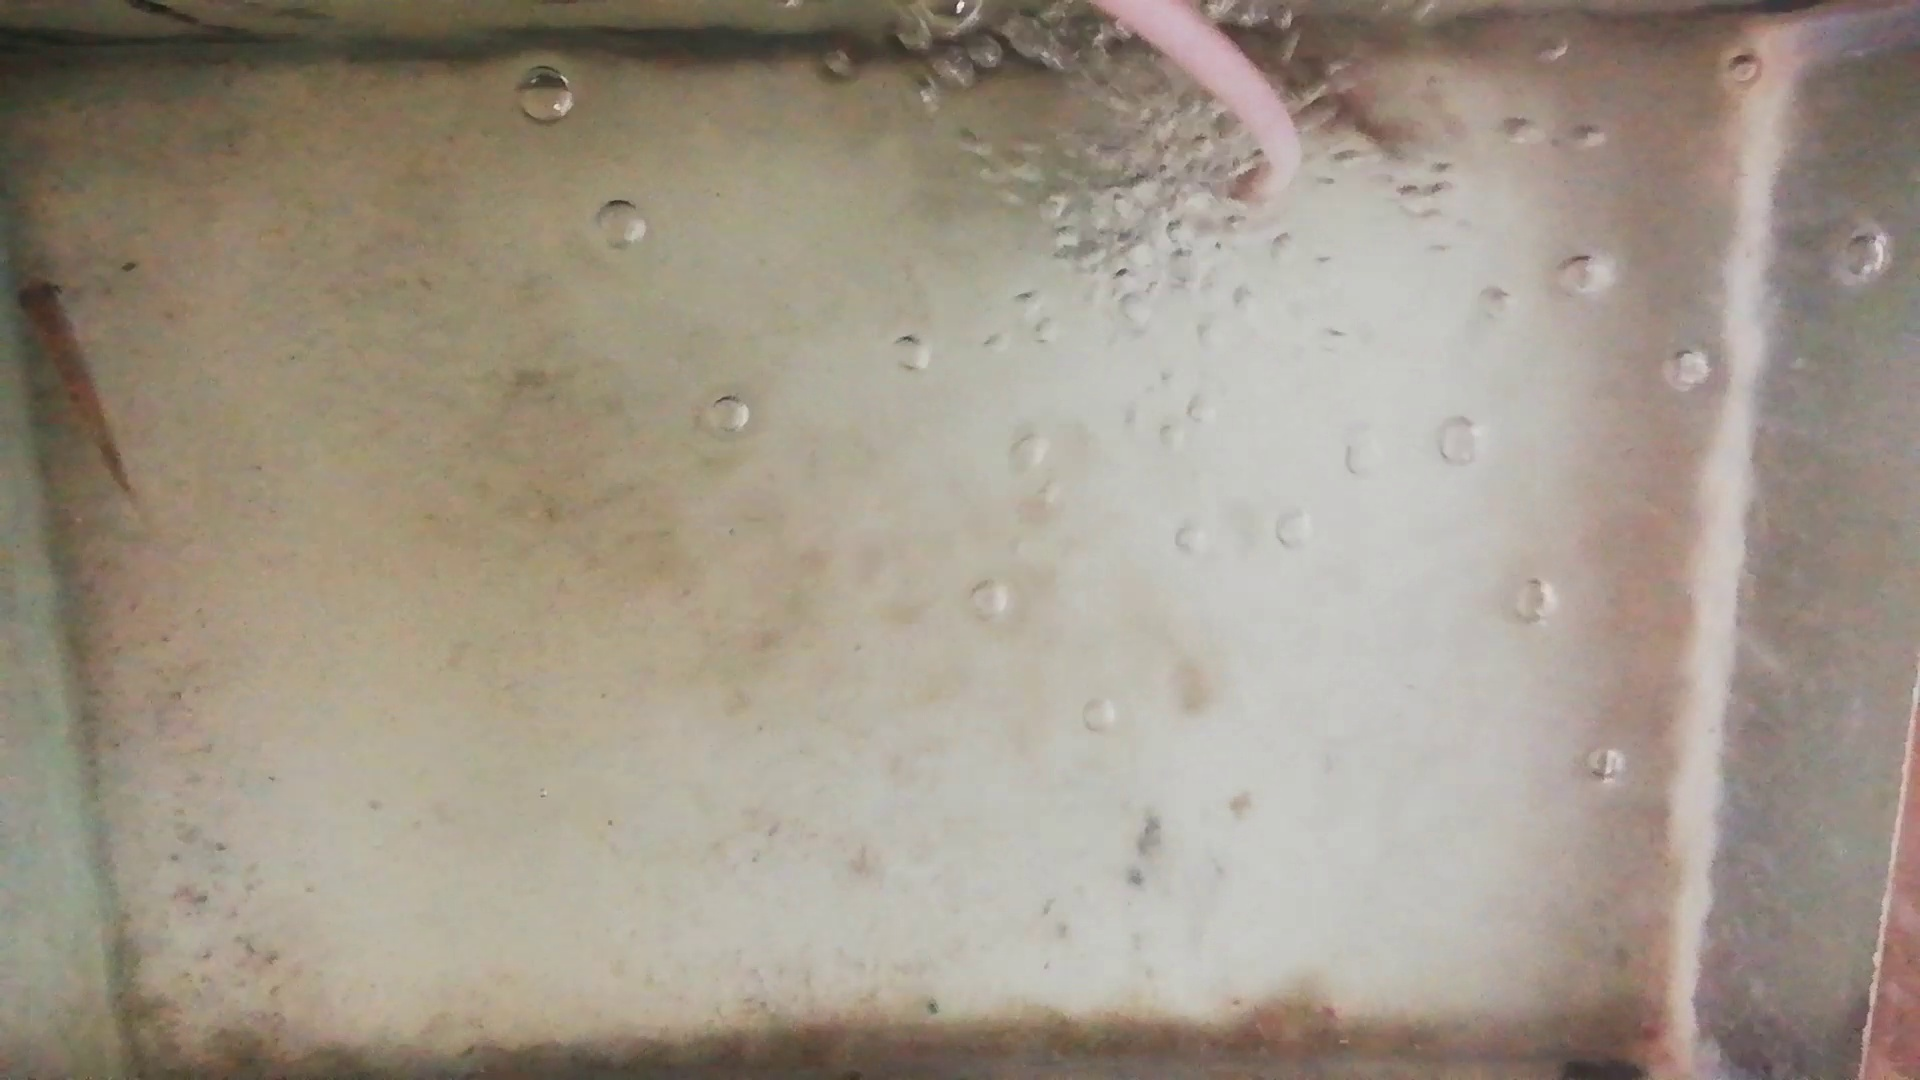fish: (16, 276, 136, 488), (1286, 62, 1402, 154)
